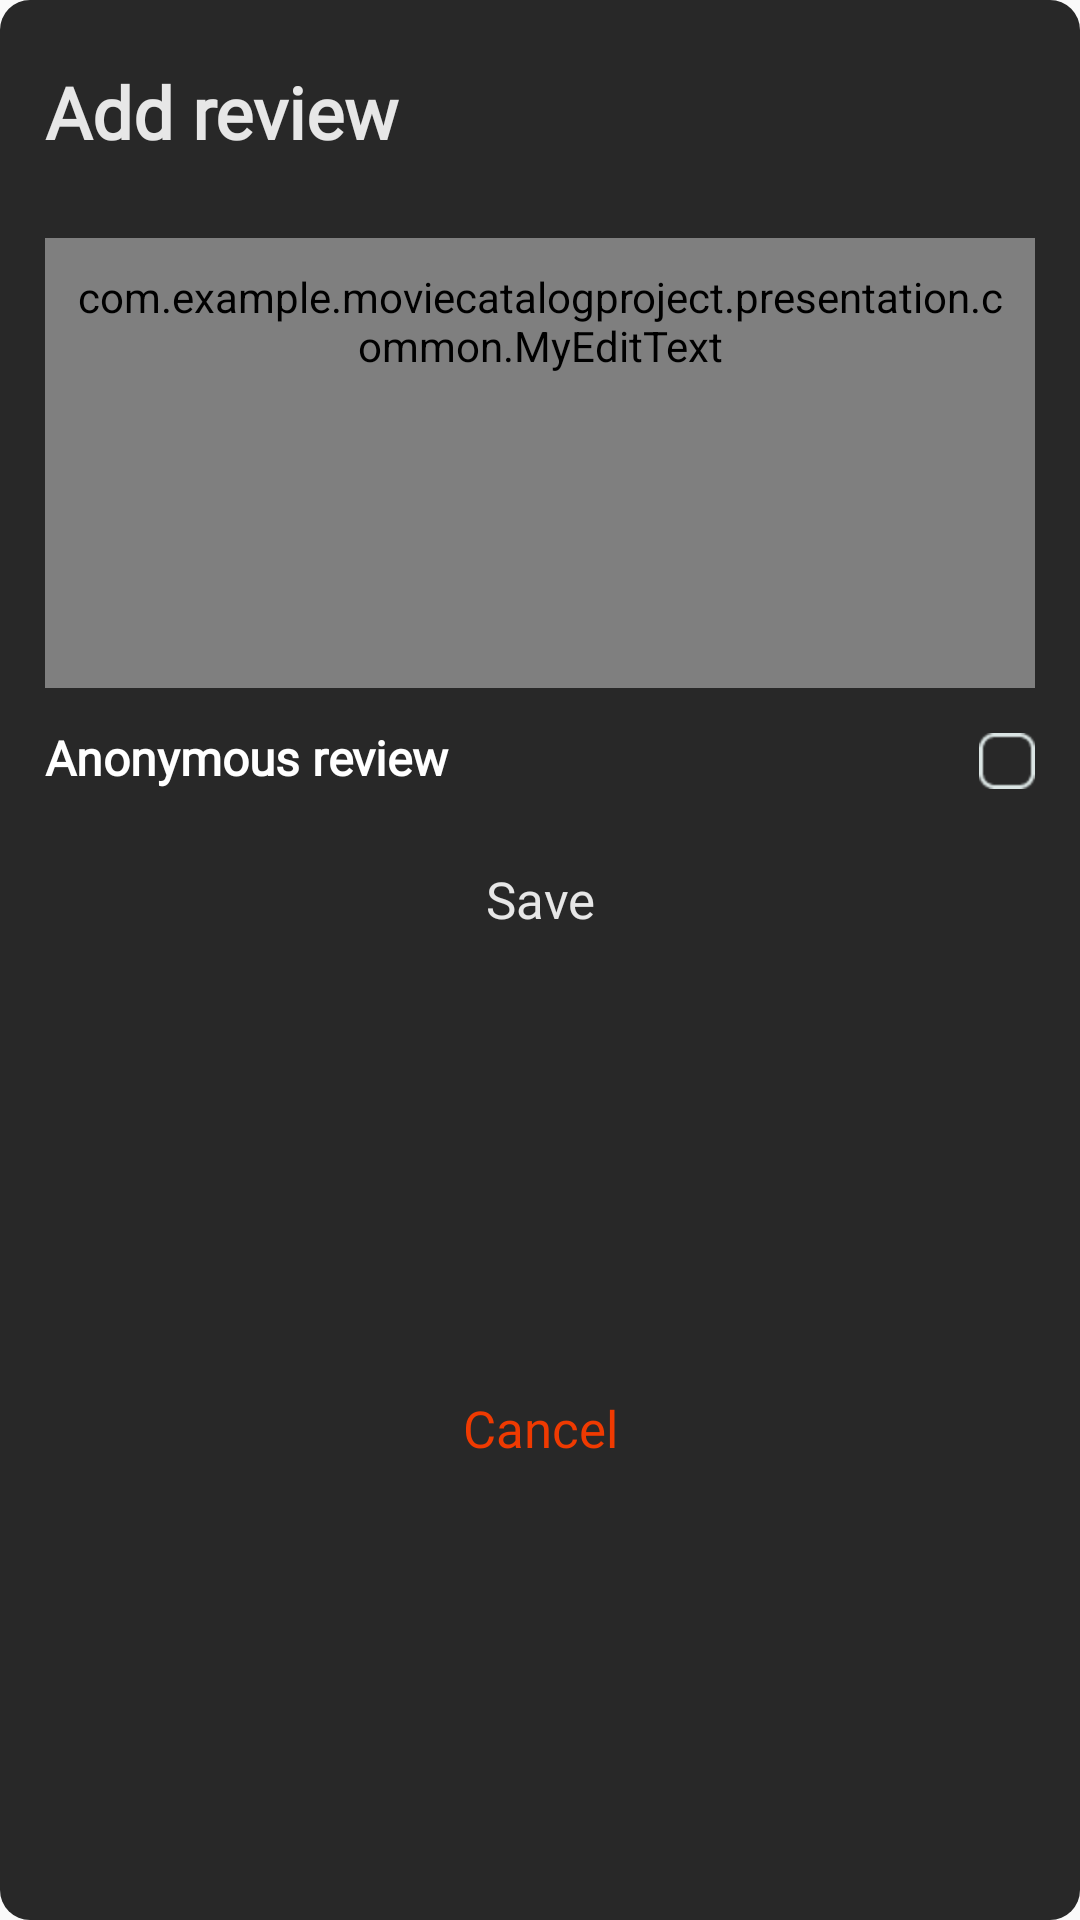

Where icons sit on this 1080 × 1920 app screen, as (x1, y1, x2, y2):
checkbox: (979, 733, 1035, 789)
